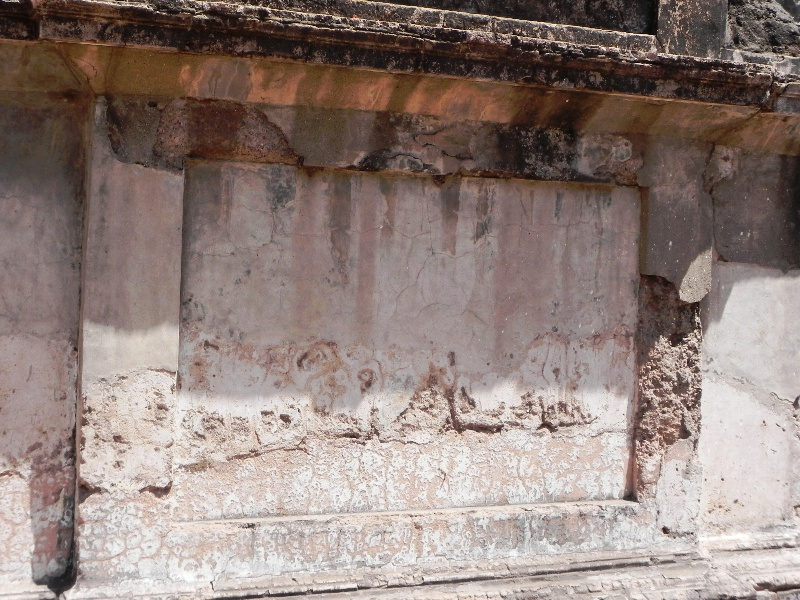Spalling: (108, 81, 312, 185), (630, 265, 710, 479), (70, 477, 176, 508)
